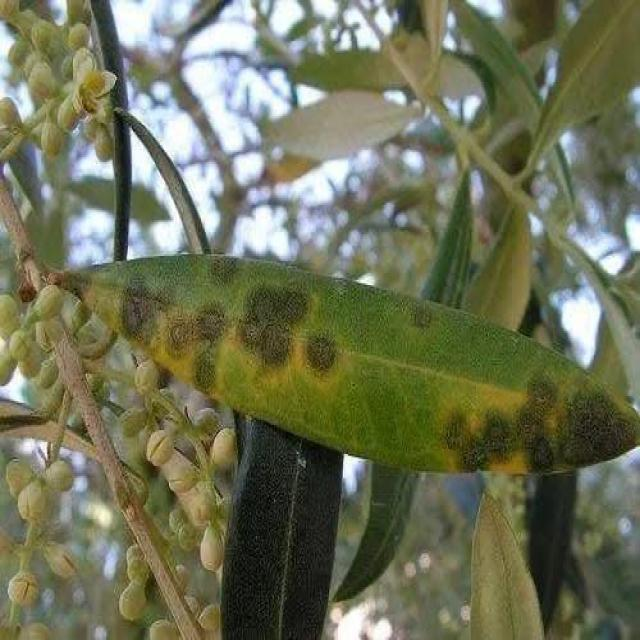Peacock Eye: (63, 254, 635, 473)
